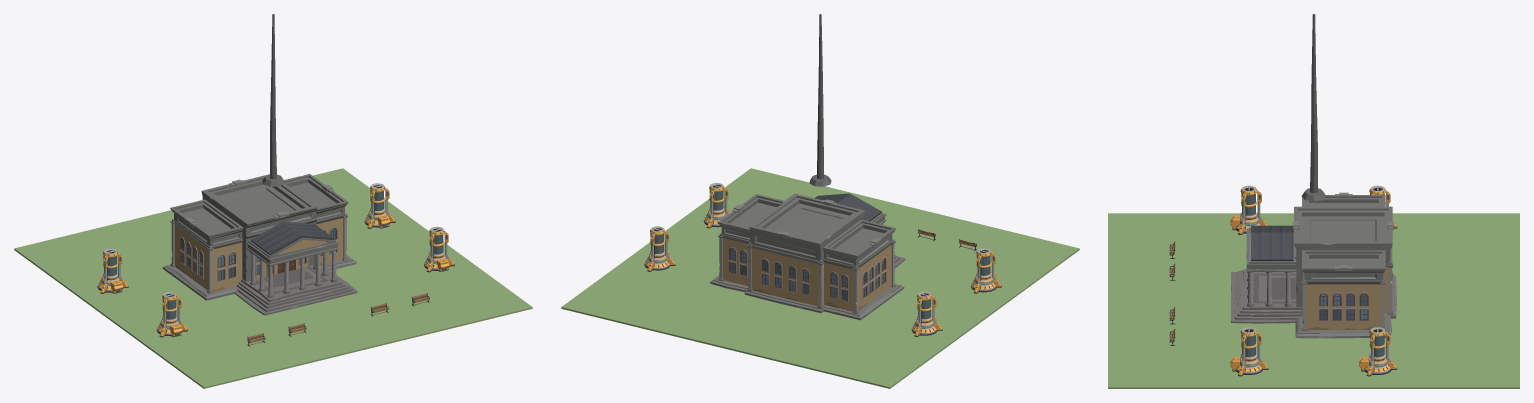
Rendered from gala-hall.glb.
3 renders of one model, left to right at view 1: azimuth 30°, elevation 25°; view 2: azimuth 150°, elevation 25°; view 3: azimuth 270°, elevation 25°, orthographic. The views are drawn at different scales.
Visible parts, largest first — view 1: Ground, GalaHall_Main, GalaHall_Spire, Tower_0, Tower_1, Tower_3, Tower_2; view 2: Ground, GalaHall_Main, GalaHall_Spire, Tower_0, Tower_2, Tower_3, Tower_1; view 3: Ground, GalaHall_Main, GalaHall_Spire, Tower_1, Tower_3, Tower_0.
Boxes of the visible parts, bbox=[...] form: Ground: bbox=[14, 168, 532, 388]; GalaHall_Main: bbox=[162, 174, 357, 315]; GalaHall_Spire: bbox=[262, 14, 284, 186]; Tower_0: bbox=[156, 292, 187, 337]; Tower_1: bbox=[424, 226, 454, 272]; Tower_3: bbox=[364, 183, 395, 228]; Tower_2: bbox=[97, 248, 128, 293]; Ground: bbox=[561, 168, 1079, 388]; GalaHall_Main: bbox=[710, 193, 905, 320]; GalaHall_Spire: bbox=[809, 14, 831, 186]; Tower_0: bbox=[971, 248, 1001, 293]; Tower_2: bbox=[911, 291, 942, 336]; Tower_3: bbox=[644, 226, 675, 271]; Tower_1: bbox=[703, 183, 729, 228]; Ground: bbox=[1108, 213, 1519, 388]; GalaHall_Main: bbox=[1231, 192, 1396, 338]; GalaHall_Spire: bbox=[1301, 14, 1326, 201]; Tower_1: bbox=[1230, 327, 1268, 376]; Tower_3: bbox=[1359, 327, 1397, 376]; Tower_0: bbox=[1230, 185, 1267, 234].
Size of the model in its own units: 32 by 24.65 by 32.
Materials: 3 (2 with a texture image).
